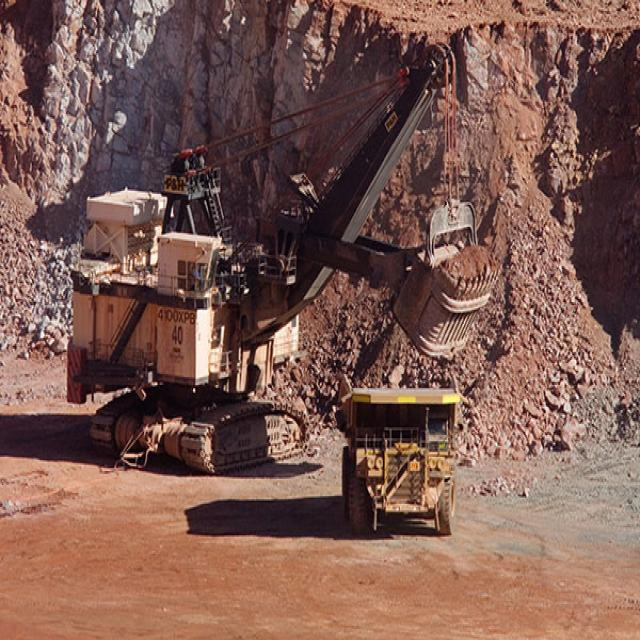dump_truck: (332, 357, 464, 538)
